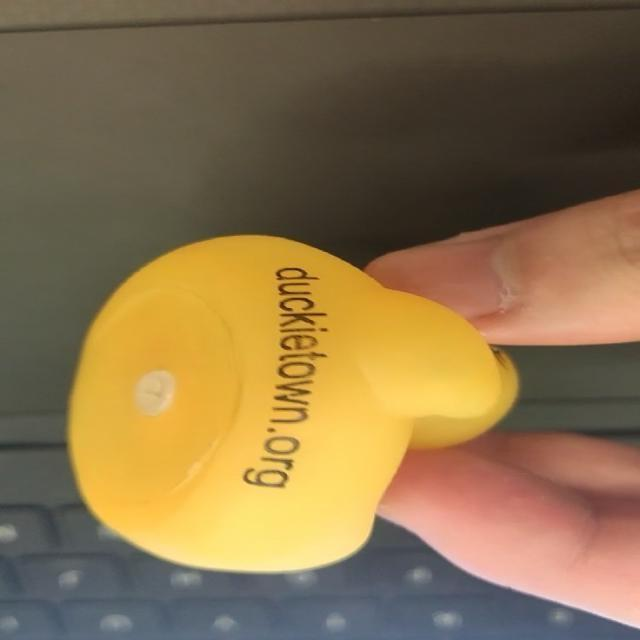rubber-duck: (68, 234, 516, 570)
